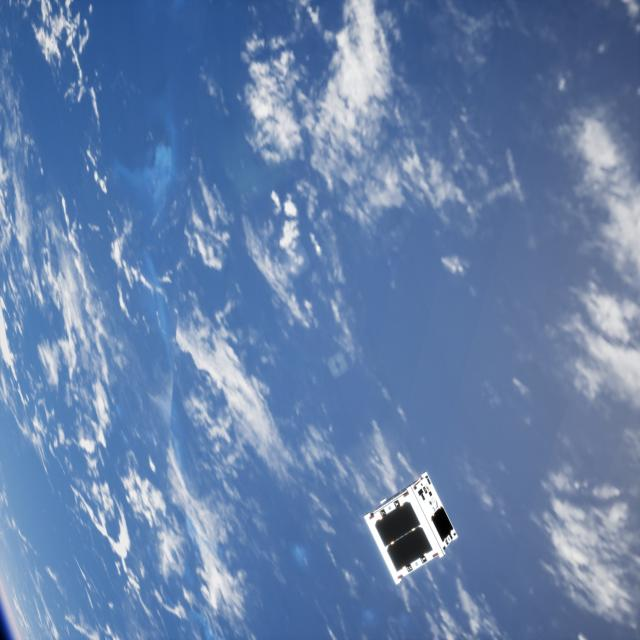medium_debris: (354, 473, 468, 586)
